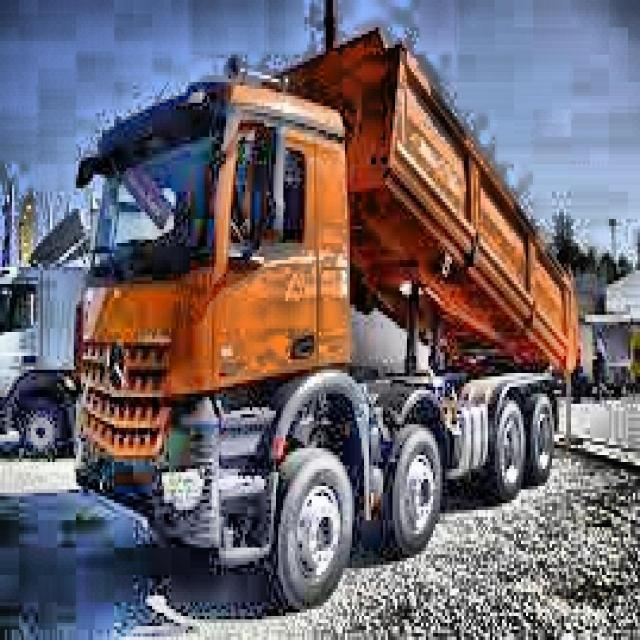dump_truck: (65, 30, 588, 610)
